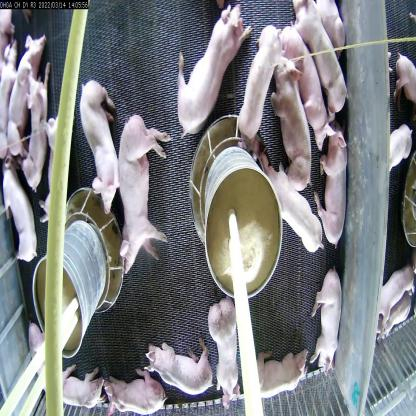Pig: (172, 3, 247, 137), (114, 113, 172, 281), (294, 0, 352, 118), (262, 155, 326, 260), (271, 58, 322, 189), (283, 22, 332, 152), (77, 80, 124, 215), (240, 21, 280, 153), (15, 66, 56, 194), (314, 126, 355, 250), (0, 156, 42, 267), (142, 337, 216, 398), (11, 34, 46, 155), (98, 361, 171, 416), (207, 296, 241, 411), (251, 340, 311, 399), (312, 261, 341, 376), (52, 363, 110, 415)
